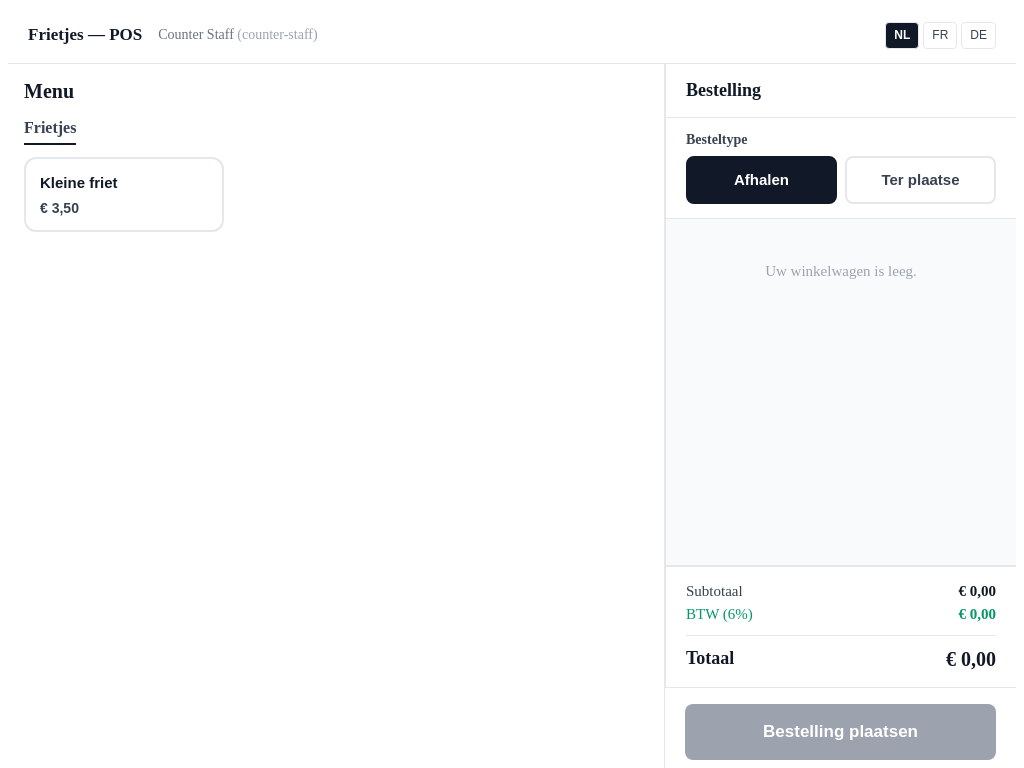
PosDashboard — EatIn submit guard (t-17, AC4) › Place Order button is disabled when EatIn is selected but table number is missing
This screenshot has width=1024, height=768.
Add item via the real product grid — no modal because no modifiers
Click the text "Kleine friet" at (79, 183), box top-left (40, 173), bottom-right (118, 192)
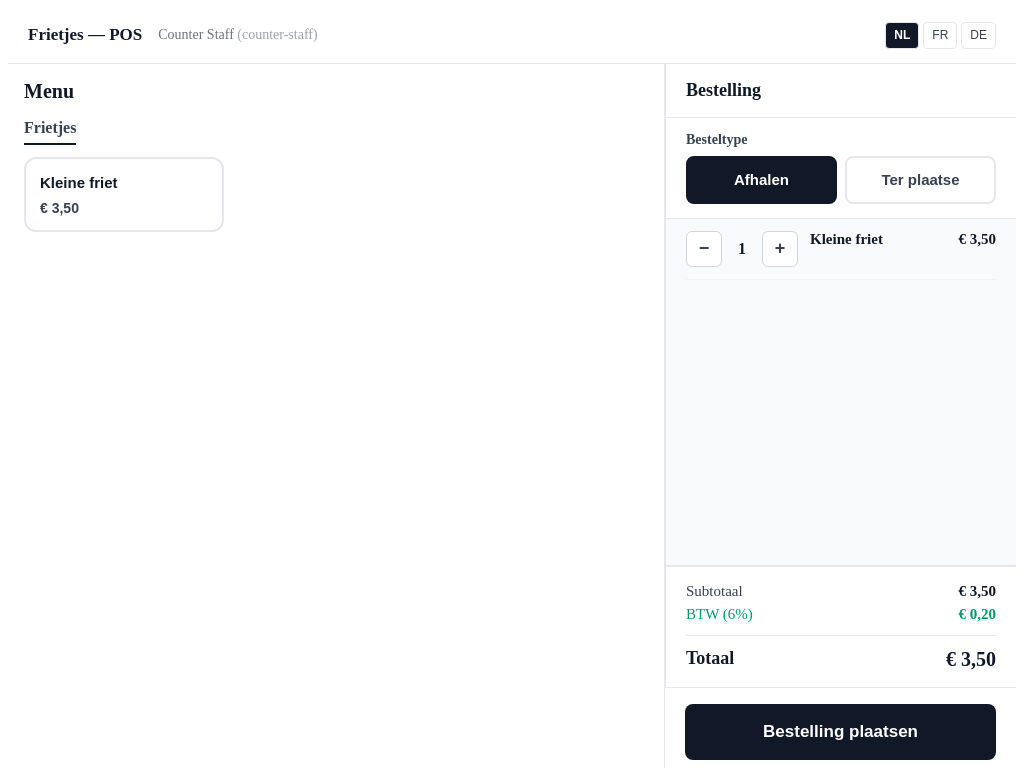
Click the button with test id "order-type-eatin" at (920, 180), box top-left (845, 156), bottom-right (996, 204)
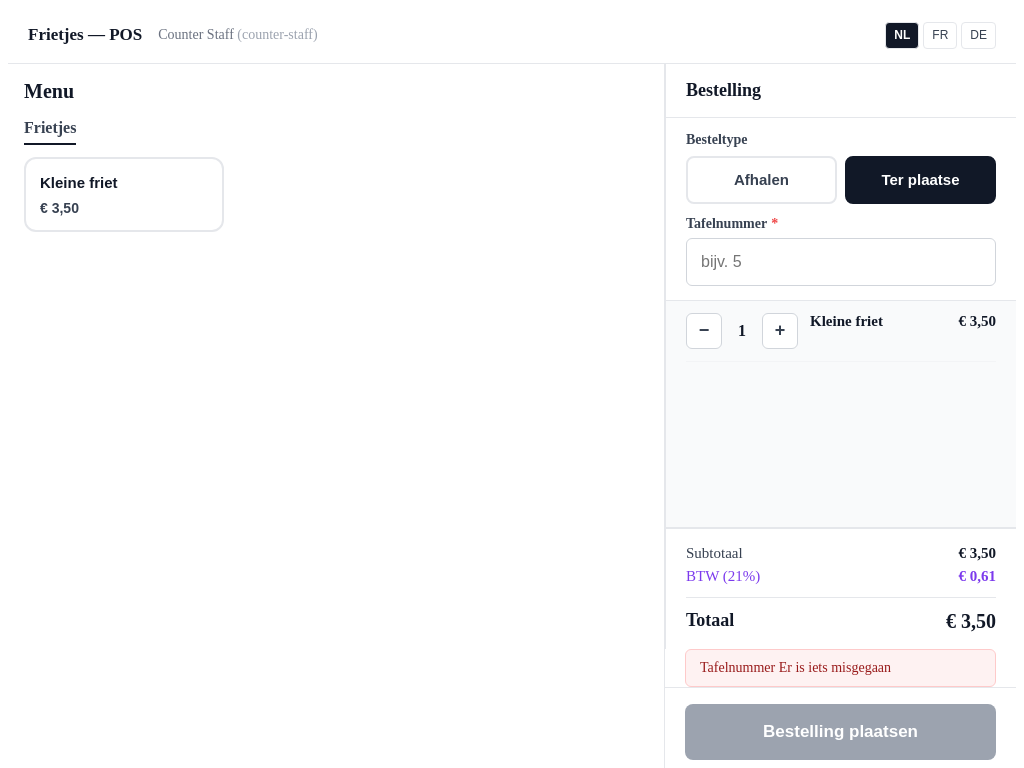
Now the button "Bestelling plaatsen" is disabled, box top-left (685, 704), bottom-right (996, 760)
Now the message "Tafelnummer Er is iets misgegaan" is shown, box top-left (685, 649), bottom-right (996, 687)
